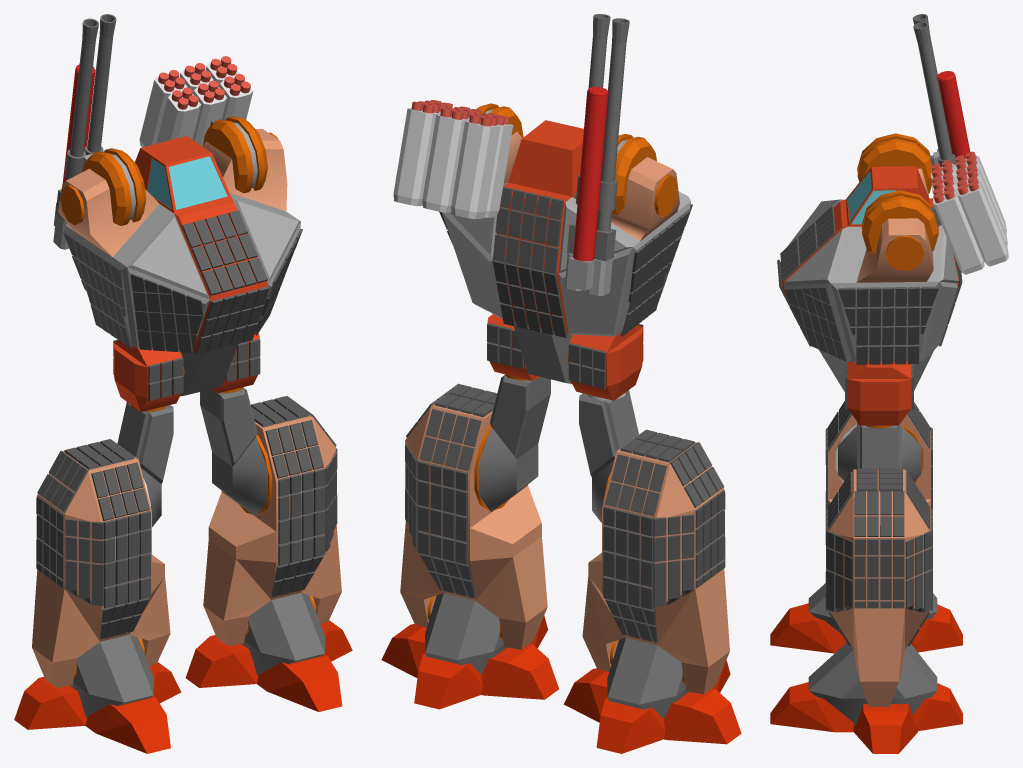
Rendered from Mech_red_body.fbx.
3 renders of one model, left to right at view 1: azimuth 30°, elevation 25°; view 2: azimuth 150°, elevation 25°; view 3: azimuth 270°, elevation 25°, orthographic. The views are drawn at different scales.
Parts seen in each view (by area): view 1: T, Rl3, Ll3, Rl5, Ll5, DR01, Ll2, DG, Rl4, Ll4, Rl1, Rl2 (+2 smaller); view 2: T, Rl3, Ll3, DR01, DG, Rl5, Ll5, Ll2, Rl4, Ll4, Rl1, Rl2 (+2 smaller); view 3: T, Ll3, Ll5, DR01, Ll4, Ll1, Rl5, DG, Rl3, Ll2, Rl2, Rl4 (+1 smaller).
Part boxes in pixels (x1,y1,x2,y2): T: (58, 116, 302, 354); Rl3: (32, 439, 170, 687); Ll3: (203, 396, 341, 645); Rl5: (14, 662, 181, 753); Ll5: (185, 620, 352, 711); DR01: (139, 56, 253, 147); Ll2: (200, 387, 267, 516); DG: (53, 14, 116, 249); Rl4: (70, 634, 153, 718); Ll4: (241, 593, 325, 676); Rl1: (113, 339, 183, 411); Rl2: (117, 402, 173, 526); T: (439, 103, 692, 337); Rl3: (582, 429, 729, 694); Ll3: (400, 383, 547, 649); DR01: (393, 100, 513, 219); DG: (564, 14, 629, 295); Rl5: (563, 660, 741, 753); Ll5: (381, 615, 558, 709); Ll2: (478, 375, 550, 511); Rl4: (607, 637, 688, 718); Ll4: (425, 593, 506, 674); Rl1: (568, 324, 643, 400); Rl2: (579, 390, 638, 522); T: (777, 133, 962, 364); Ll3: (825, 468, 932, 706); Ll5: (770, 682, 962, 753); DR01: (929, 151, 1008, 274); Ll4: (808, 643, 937, 726); Ll1: (845, 361, 913, 428); Rl5: (770, 603, 962, 653); DG: (912, 14, 970, 166); Rl3: (825, 401, 932, 509); Ll2: (857, 422, 901, 469); Rl2: (838, 426, 920, 481); Rl4: (808, 583, 937, 633).
Size of the model in its own units: 1.4 by 2.74 by 0.9429.
